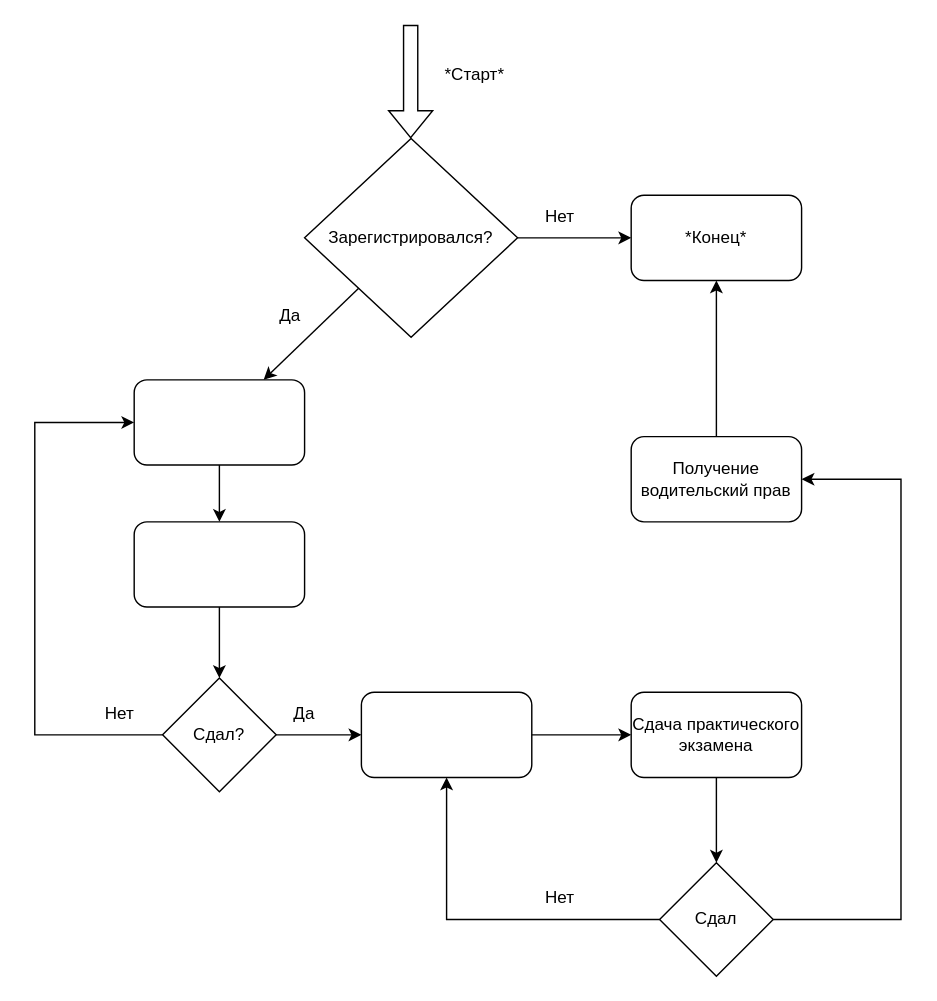
The diagram is 937 pixels wide and 1001 high, and some of its shapes have lost their labels. The centre of each missing label's shape, as x and y in pixels:
"Готовится к практическому экзамену" belongs at point (446, 734).
"Готовится к теоретическому экзамену" belongs at point (219, 421).
"Сдача теоретического экзамена" belongs at point (219, 563).
